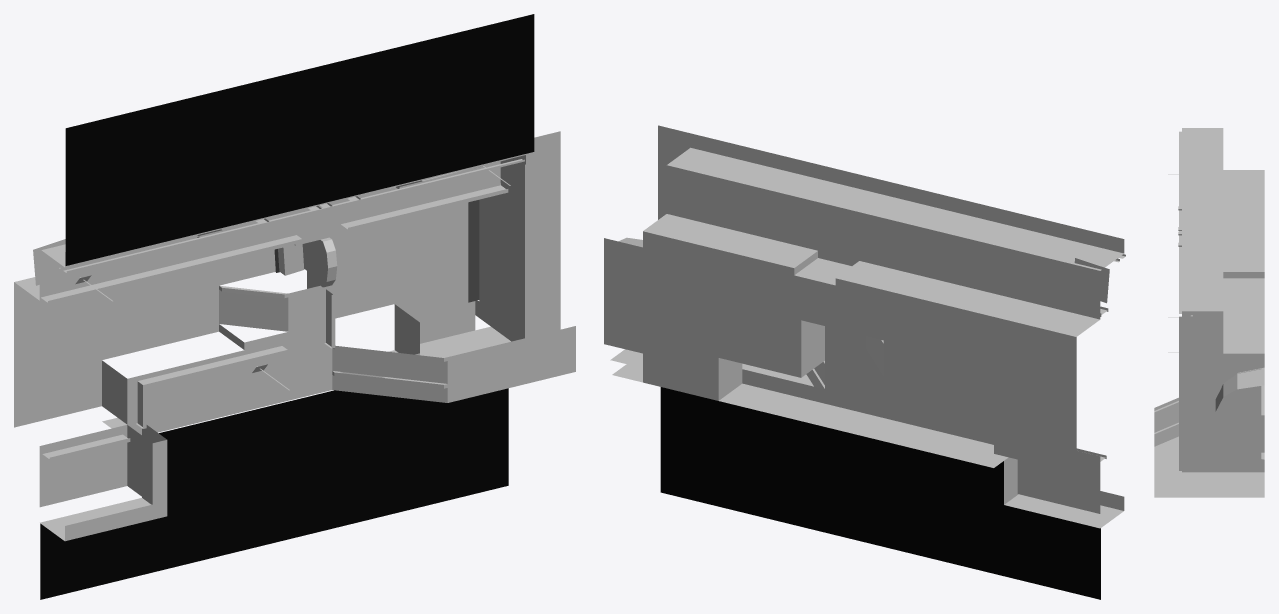
File: Sewer-Main_02_01.obj
3 views of the same model, side by side, from view 1: azimuth 30°, elevation 25°; view 2: azimuth 150°, elevation 25°; view 3: azimuth 270°, elevation 25° (orthographic). The views are drawn at different scales.
Parts seen in each view (by area): view 1: map; view 2: map; view 3: map.
Part boxes in pixels (bbox=[...]): map: bbox=[14, 14, 575, 599]; map: bbox=[604, 125, 1125, 599]; map: bbox=[1154, 128, 1264, 497].
Size of the model in its own units: 34.88 by 32 by 8.
